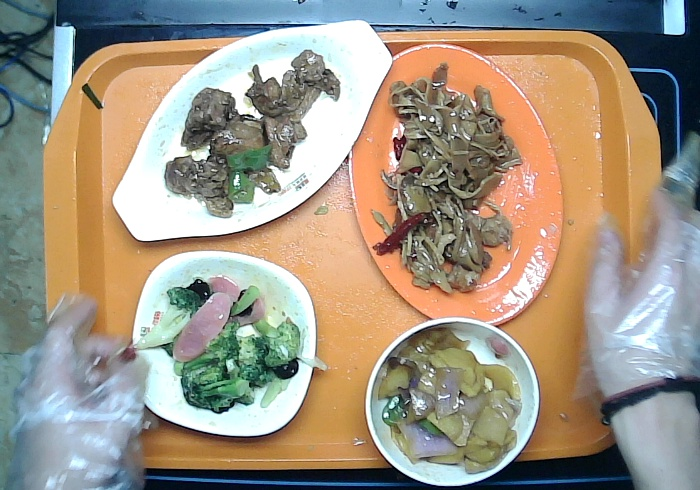NLDX-Bai_Se_Xiao_Fang_Die: (127, 248, 326, 439)
NLDX-Fan_Wan: (363, 317, 540, 490)
NLDX-Ju_Se_Pan: (347, 40, 565, 327)
NLDX-Yu_Pan: (110, 18, 395, 244)
